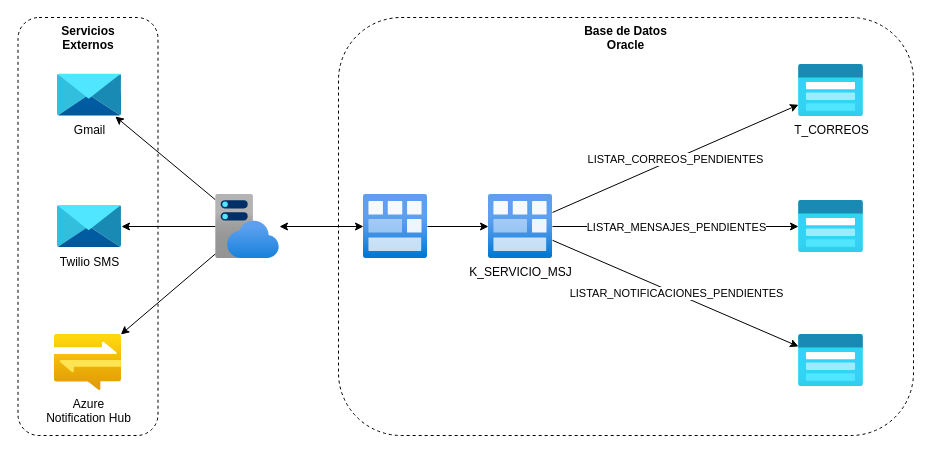
Some shapes in this 931 by 453 pixel diagram are drawn without their labels. The box of each missing label's shape, as (x1, y1, x2, y2) in pixels:
K_SERVICIO: (363, 194, 427, 258)
Risk.API: (215, 194, 279, 258)
T_MENSAJES: (798, 200, 863, 252)
T_NOTIFICACIONES: (798, 334, 863, 386)
